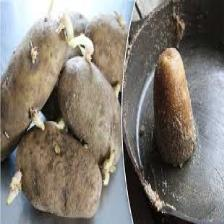Bud: (68, 32, 94, 63), (6, 164, 24, 206), (100, 153, 117, 186), (28, 108, 46, 134), (45, 3, 60, 25), (28, 41, 41, 65), (54, 112, 68, 134), (114, 10, 127, 32), (112, 79, 121, 102), (53, 141, 61, 159), (4, 74, 11, 92), (5, 131, 11, 142)
Sprouted potato: (0, 9, 74, 167), (3, 114, 103, 218), (58, 36, 125, 182)
